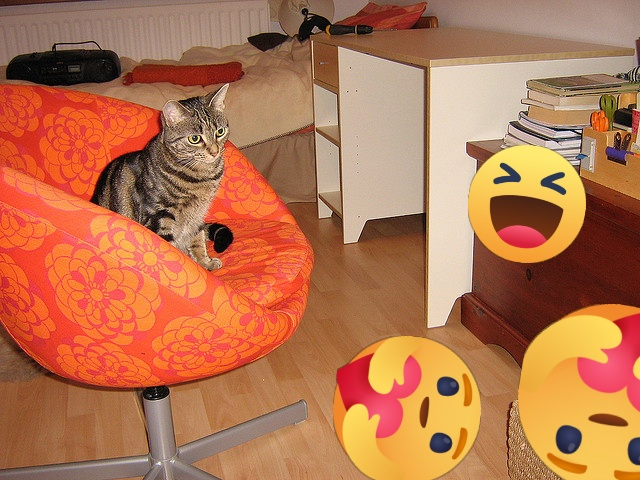care: (518, 304, 640, 480), (333, 336, 481, 480)
haha: (468, 145, 586, 263)
